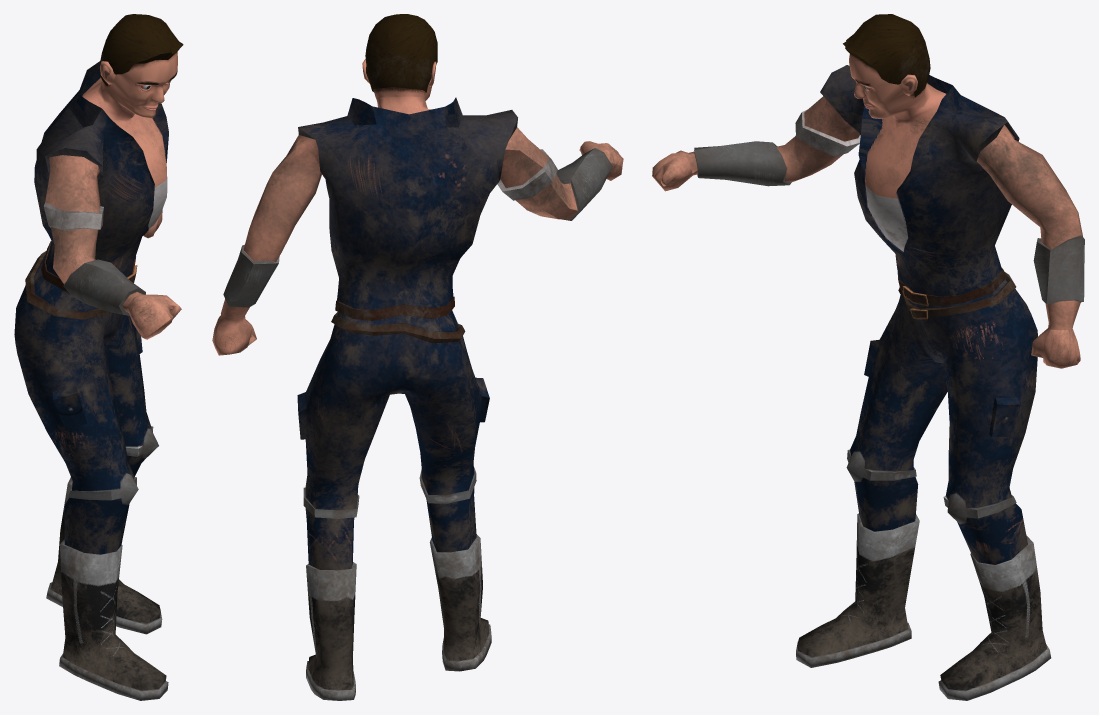
The model's file is Anim_puerta_mal_jugador.0027.obj.
3 views of the same model, side by side, from view 1: azimuth 30°, elevation 25°; view 2: azimuth 150°, elevation 25°; view 3: azimuth 270°, elevation 25° (orthographic). The views are drawn at different scales.
Parts seen in each view (by area): view 1: polySurface1; view 2: polySurface1; view 3: polySurface1.
Part boxes in pixels (box(x1,y1,x2,y2)): polySurface1: box(14, 14, 183, 700); polySurface1: box(212, 14, 623, 700); polySurface1: box(652, 14, 1084, 700).
Bounding box in the file's own units: 3.53 × 9.43 × 5.64.
